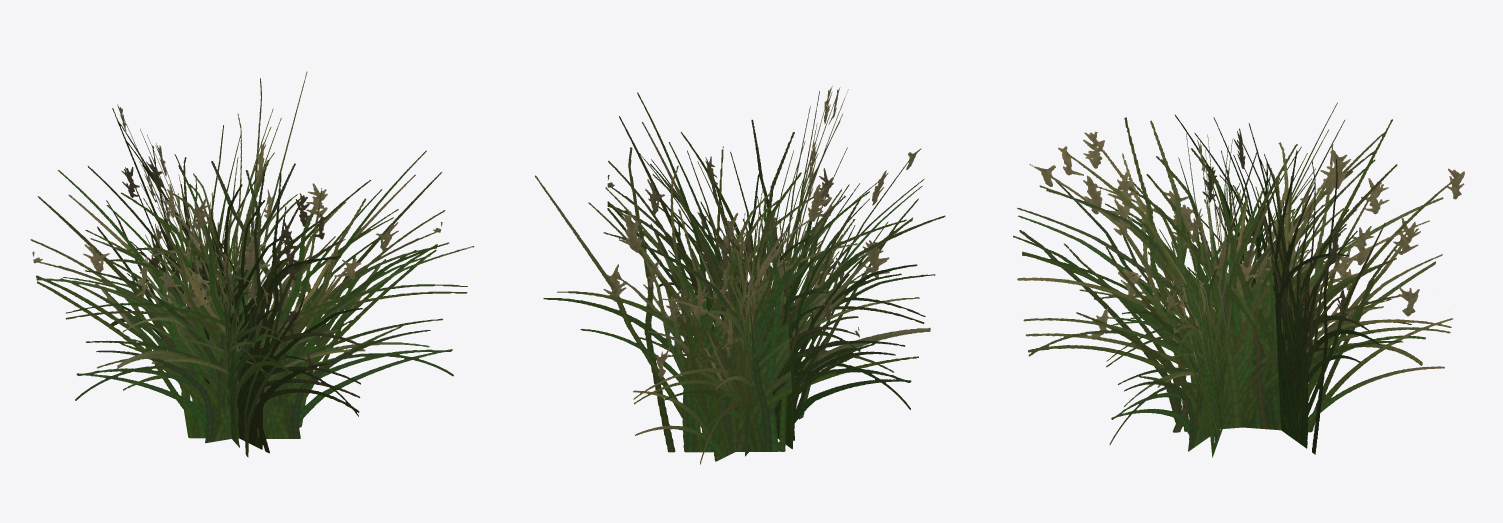
File: trava_vysoka_3.glb
3 renders of one model, left to right at view 1: azimuth 30°, elevation 25°; view 2: azimuth 150°, elevation 25°; view 3: azimuth 270°, elevation 25°, orthographic. The views are drawn at different scales.
Visible parts, largest first — view 1: trava_vysoka_3; view 2: trava_vysoka_3; view 3: trava_vysoka_3.
Part boxes in pixels (bbox=[...]): trava_vysoka_3: bbox=[30, 71, 474, 457]; trava_vysoka_3: bbox=[535, 86, 945, 464]; trava_vysoka_3: bbox=[1013, 102, 1464, 457].
Bounding box in the file's own units: 1.23 × 0.9826 × 1.33.
Materials: 1 (1 with a texture image).
